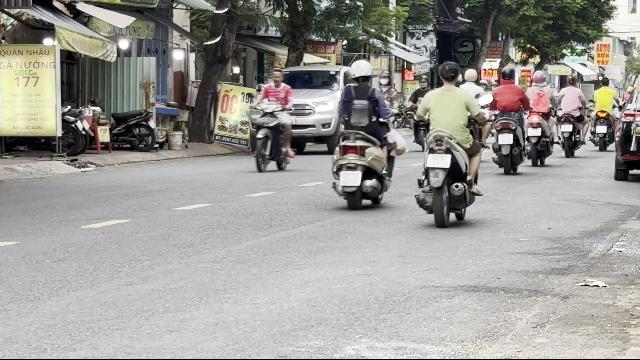helmet: (436, 61, 460, 86), (348, 59, 372, 83), (499, 65, 516, 83)
licenseplate: (339, 171, 361, 187), (426, 154, 450, 168), (498, 134, 514, 144)
motorcyclist: (412, 60, 486, 224), (326, 56, 400, 208), (246, 67, 296, 172), (487, 64, 528, 173)
nohelmet: (437, 61, 461, 86), (269, 68, 283, 84)
